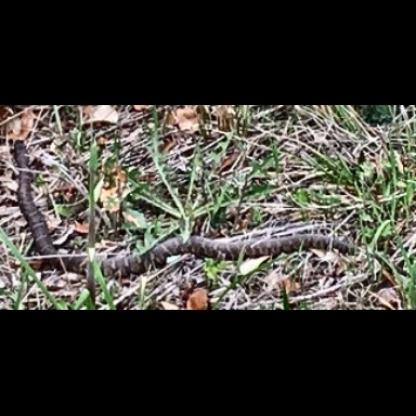Snake: (8, 138, 404, 282)
